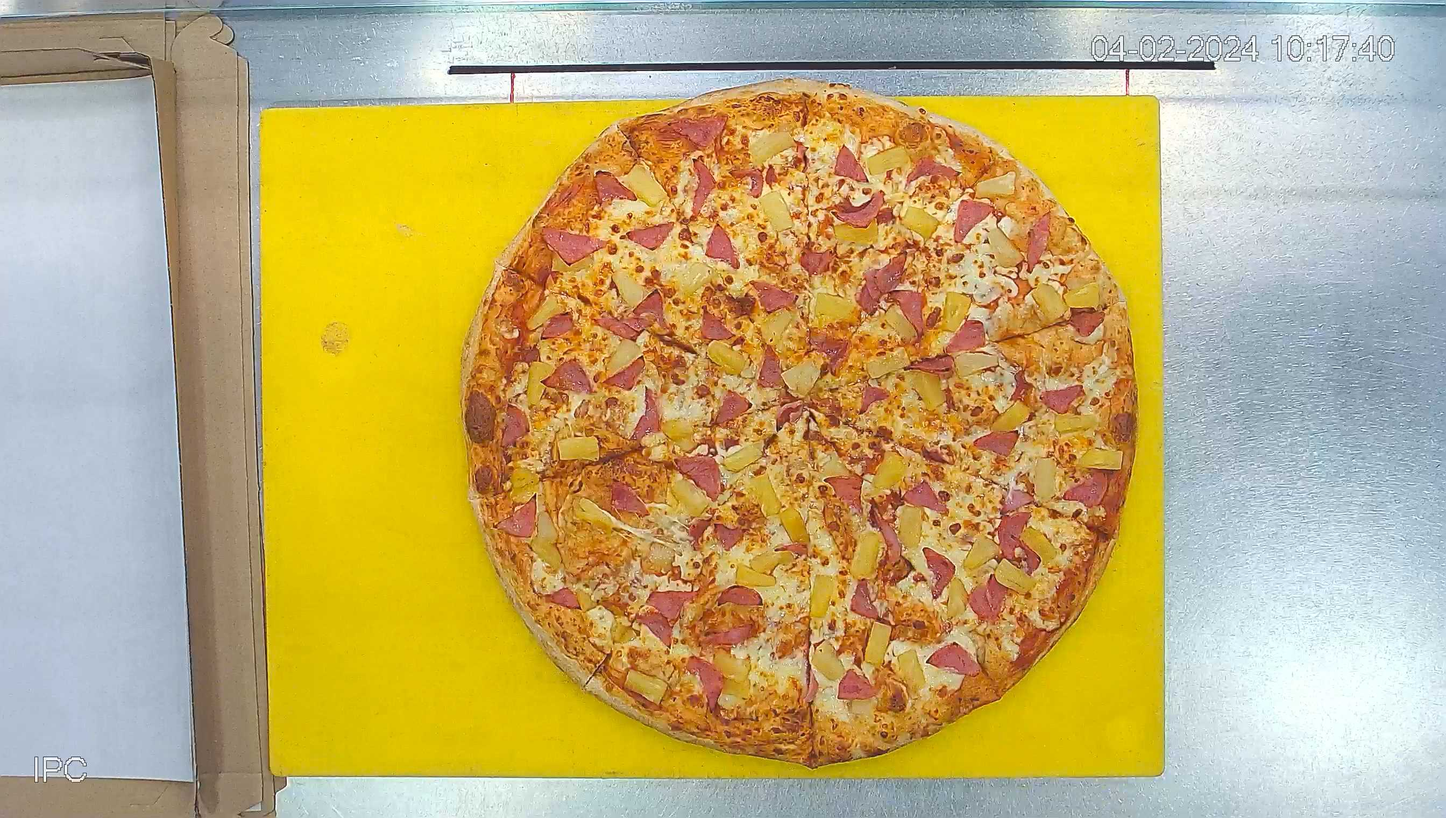manager_choice: (461, 77, 1144, 767)
